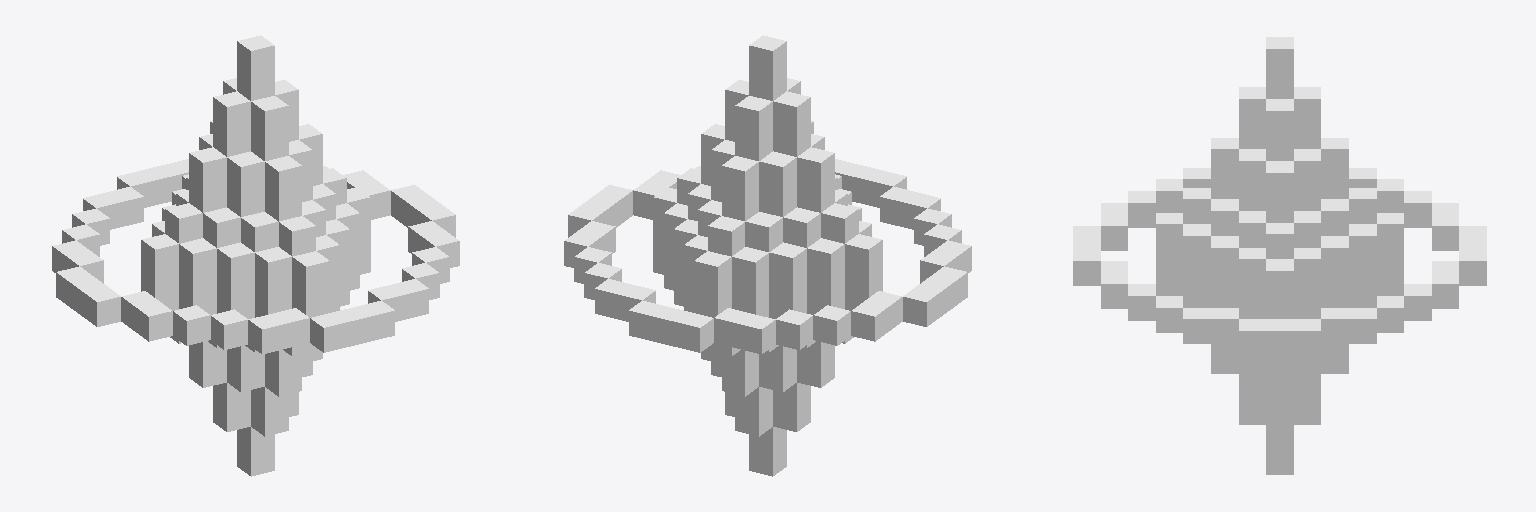
Rendered from save.obj.
The picture shows the model from 3 angles: view 1: azimuth 30°, elevation 25°; view 2: azimuth 150°, elevation 25°; view 3: azimuth 270°, elevation 25°; orthographic projection.
Parts seen in each view (by area): view 1: object 1; view 2: object 1; view 3: object 1.
Boxes of the visible parts, x1,y1,x2,y2 form: object 1: [52, 35, 459, 476]; object 1: [564, 35, 971, 476]; object 1: [1073, 37, 1486, 474].
Bounding box in the file's own units: 3 × 3.4 × 3.